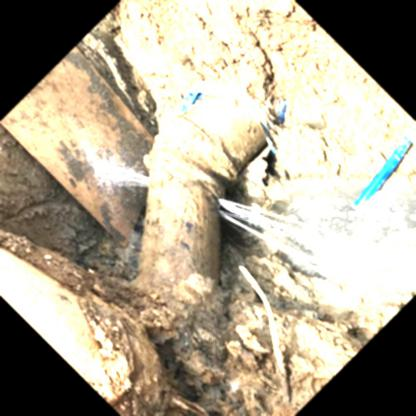burst: (206, 189, 249, 239), (117, 164, 160, 198)
